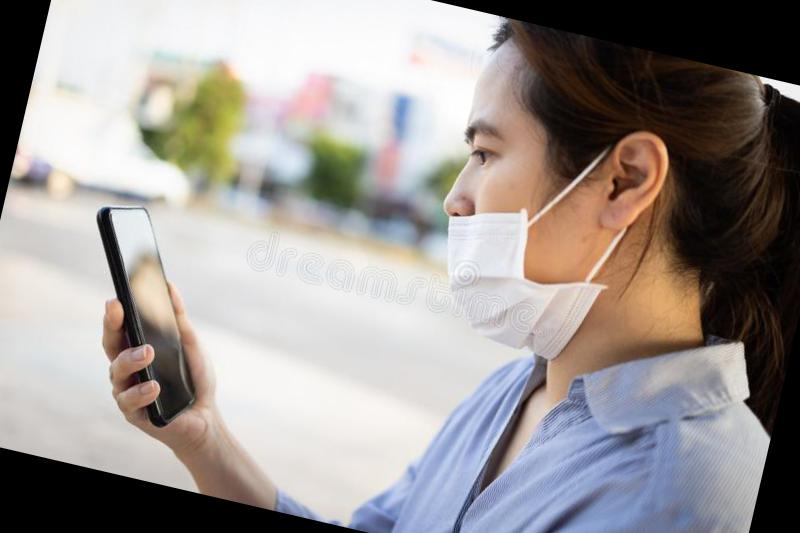mask_weared_incorrect: (407, 80, 629, 368)
